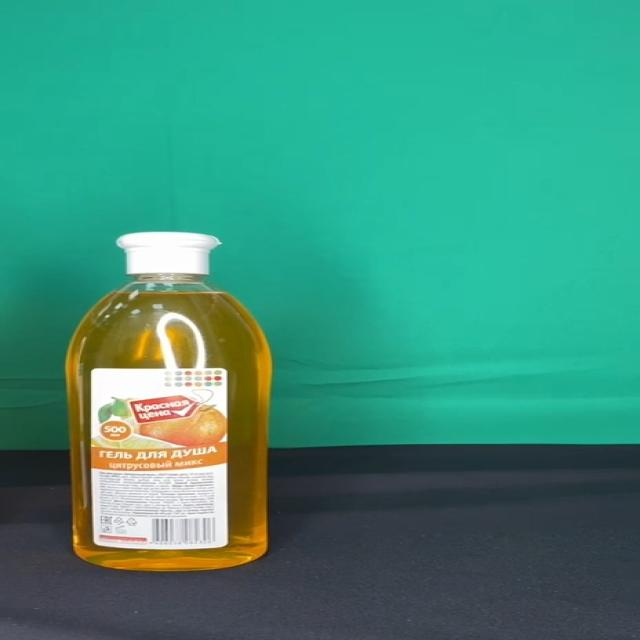Bottle: (64, 232, 272, 572)
Cap: (118, 232, 222, 274)
